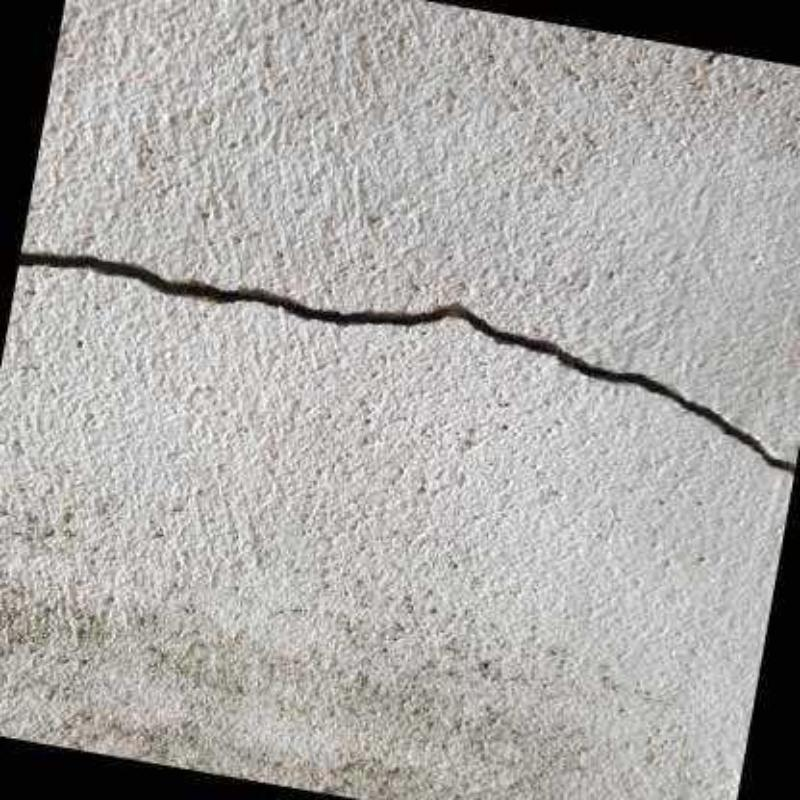pothole: (18, 248, 795, 476)
